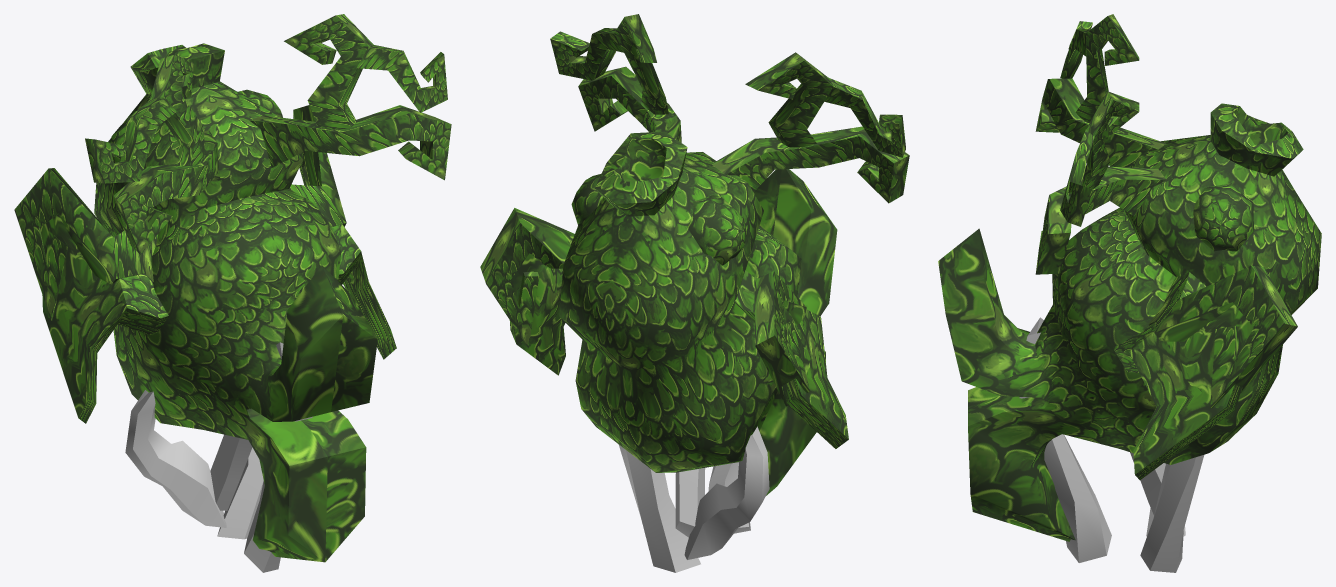
The model's file is e_courtyard_hedge_fmf.fbx.
The picture shows the model from 3 angles, left to right: view 1: azimuth 30°, elevation 25°; view 2: azimuth 150°, elevation 25°; view 3: azimuth 270°, elevation 25°; orthographic projection. The views are drawn at different scales.
Visible parts, largest first — view 1: polySurface3159; view 2: polySurface3159; view 3: polySurface3159.
Boxes of the visible parts, box(x1,y1,x2,y2) form: polySurface3159: box(14, 14, 451, 572); polySurface3159: box(480, 14, 909, 572); polySurface3159: box(938, 14, 1321, 572).
Bounding box in the file's own units: 0.7661 × 1.08 × 0.7431.
